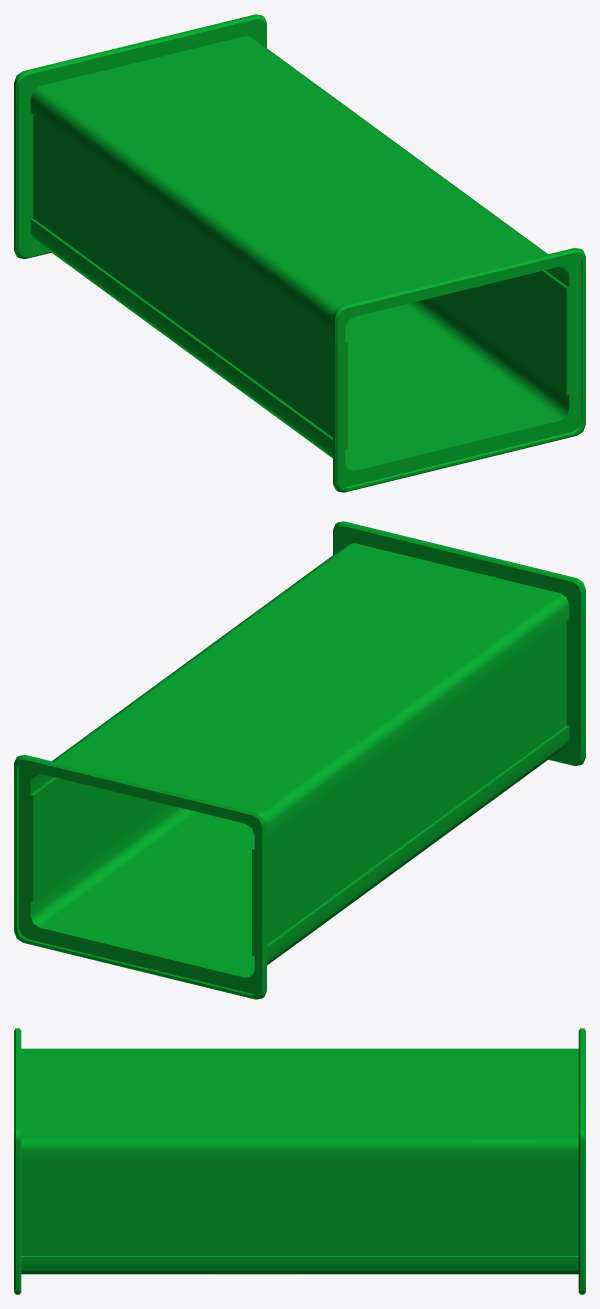
Rendered from SM_vent_straight.fbx.
3 views of the same model, one above another, from view 1: azimuth 30°, elevation 25°; view 2: azimuth 150°, elevation 25°; view 3: azimuth 270°, elevation 25° (orthographic). The views are drawn at different scales.
Visible parts, largest first — view 1: SM_vent_straight; view 2: SM_vent_straight; view 3: SM_vent_straight.
Boxes of the visible parts, <box> form: SM_vent_straight: <box>14,14,585,492</box>; SM_vent_straight: <box>14,521,585,999</box>; SM_vent_straight: <box>14,1028,585,1294</box>.
Size of the model in its own units: 0.4483 by 0.3185 by 1.
